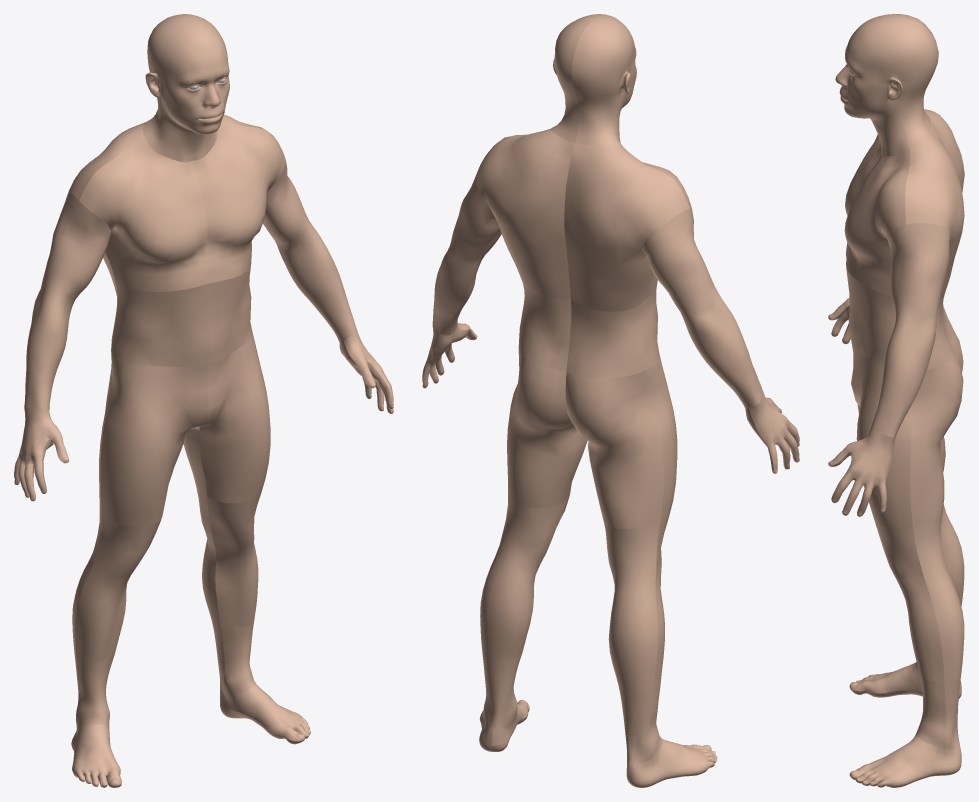
The model's file is male-v10.glb.
3 views of the same model, side by side, from view 1: azimuth 30°, elevation 25°; view 2: azimuth 150°, elevation 25°; view 3: azimuth 270°, elevation 25° (orthographic).
Parts seen in each view (by area): view 1: GEO-body_male_realistic; view 2: GEO-body_male_realistic; view 3: GEO-body_male_realistic.
Boxes of the visible parts, <box> form: GEO-body_male_realistic: <box>14,14,393,787</box>; GEO-body_male_realistic: <box>422,14,799,787</box>; GEO-body_male_realistic: <box>828,14,964,787</box>.
Size of the model in its own units: 0.8807 by 1.69 by 0.2904.
